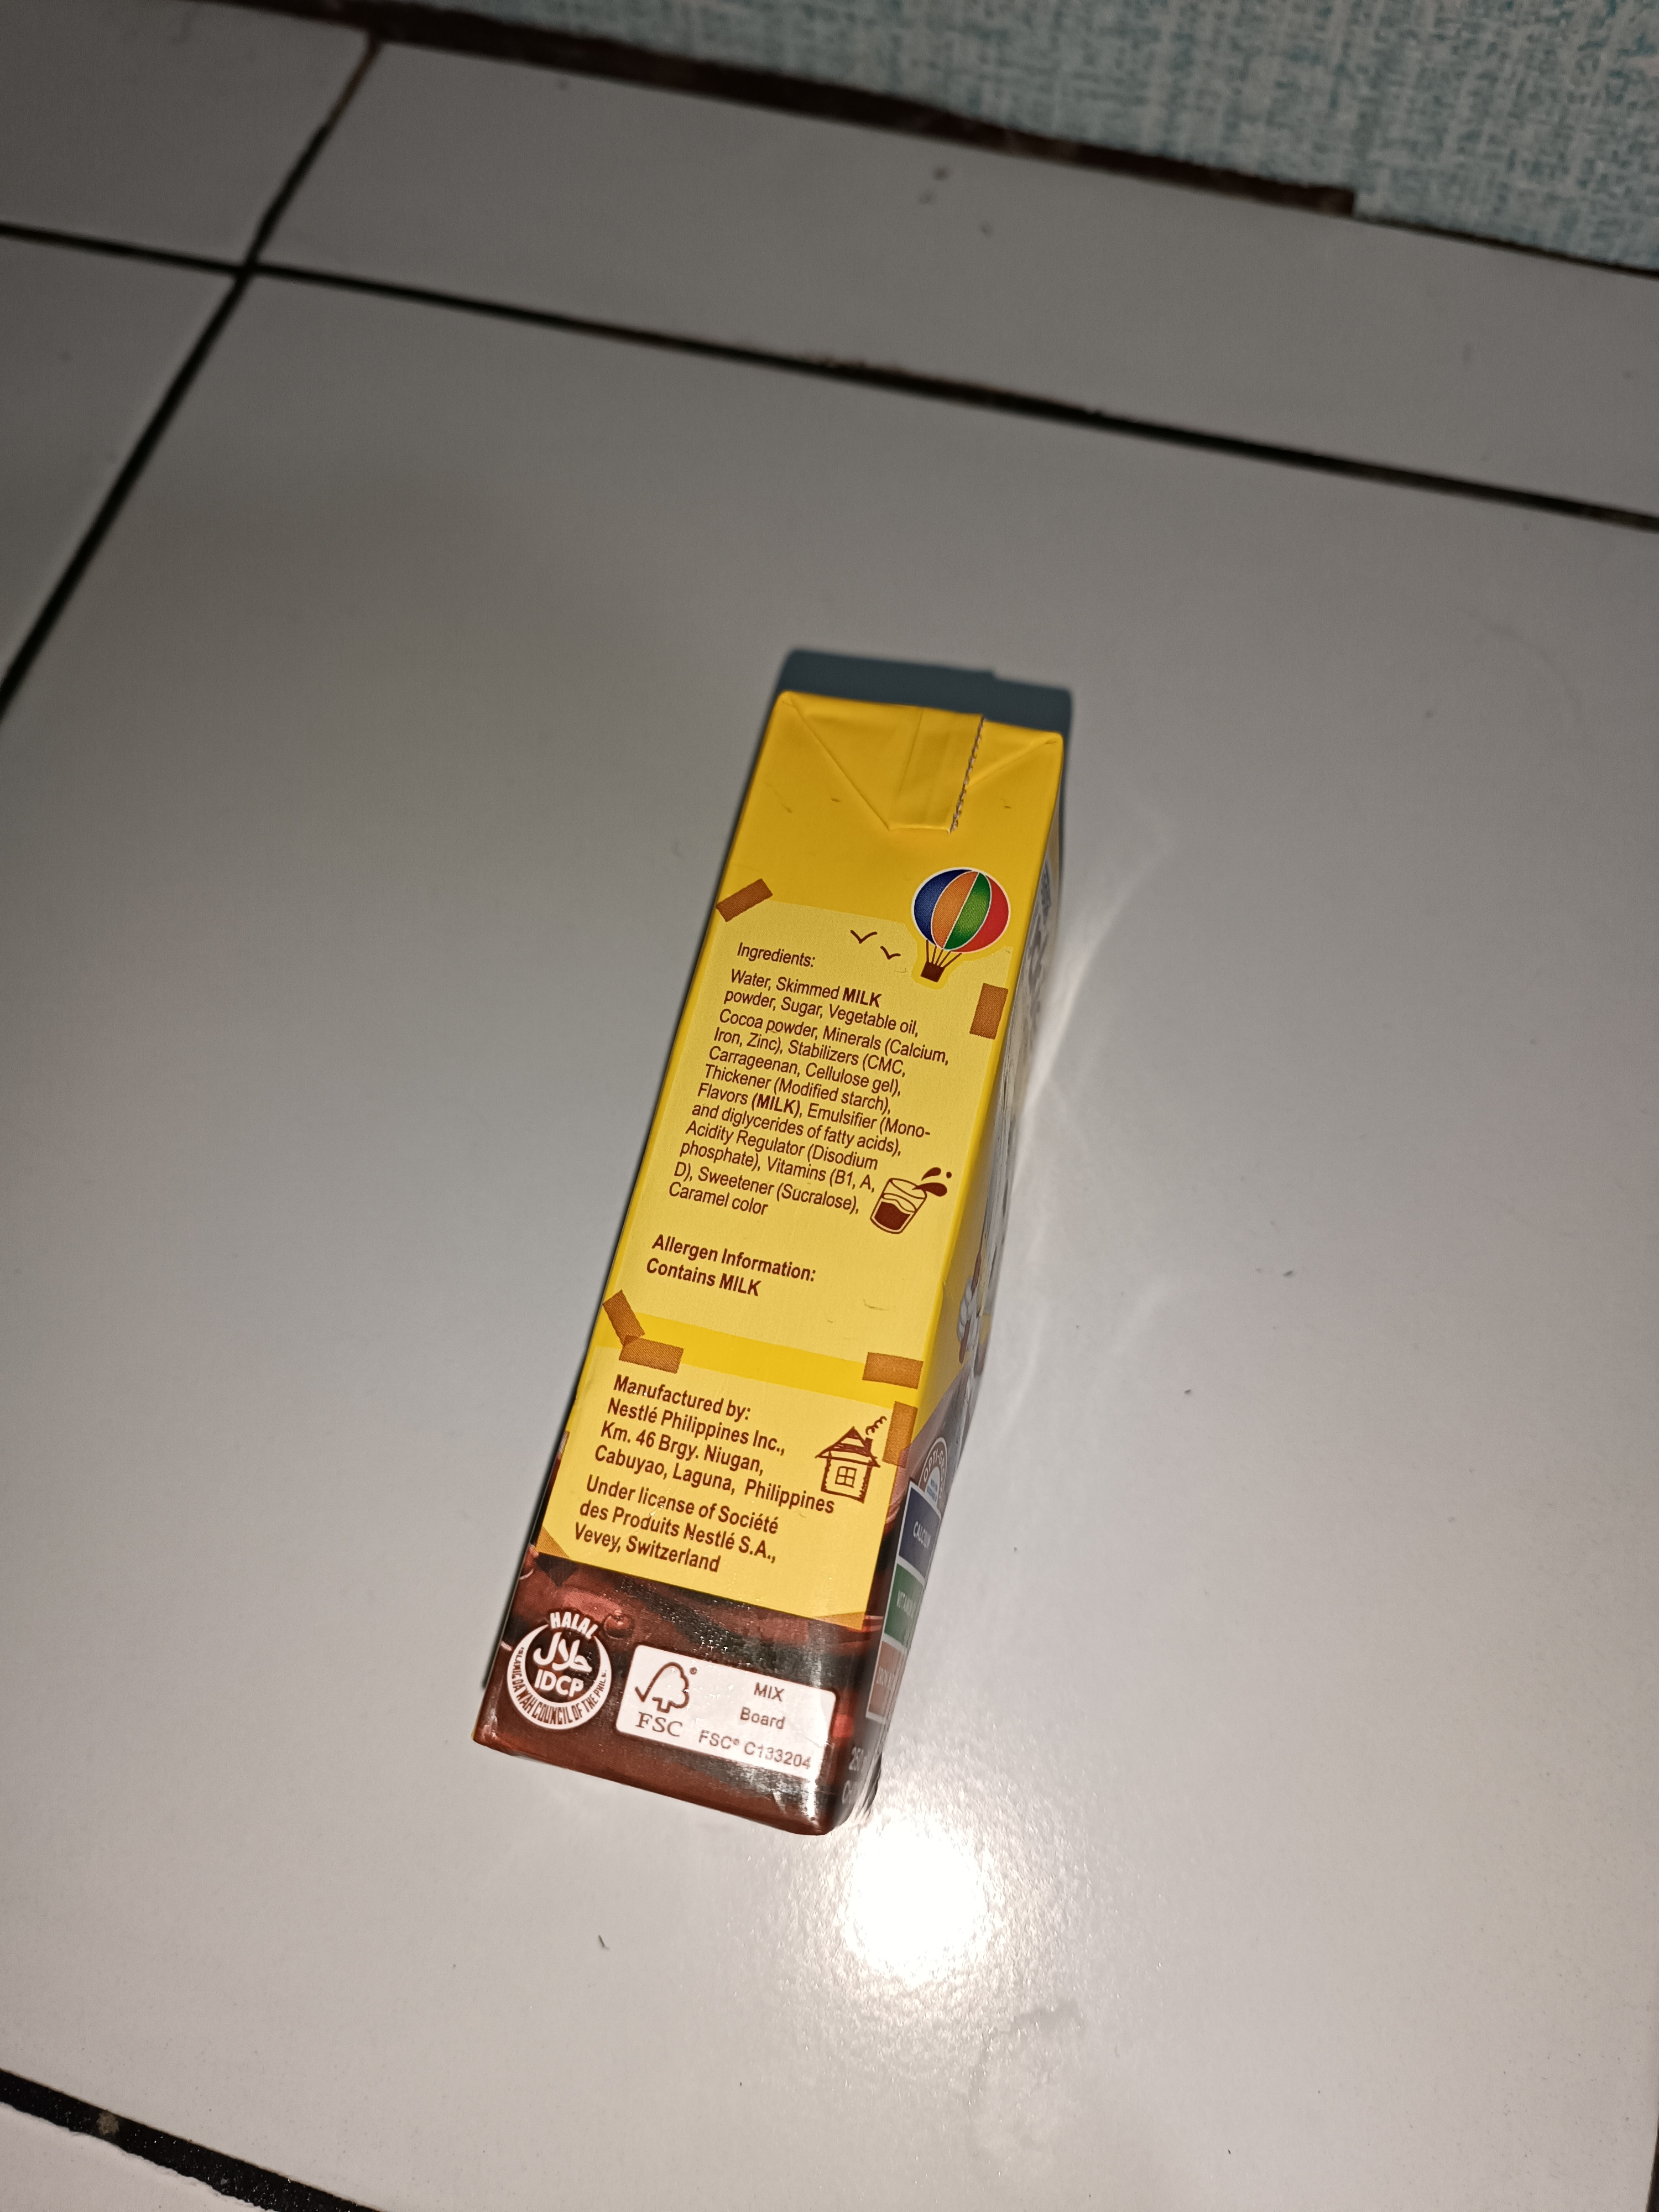Juice Box: (261, 575, 1213, 1947)
